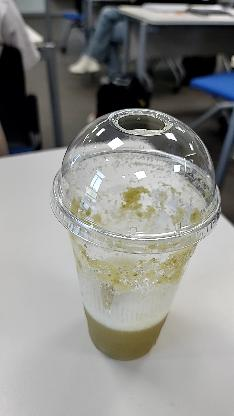Plastic Cup: (46, 106, 223, 366), (47, 108, 228, 254)
